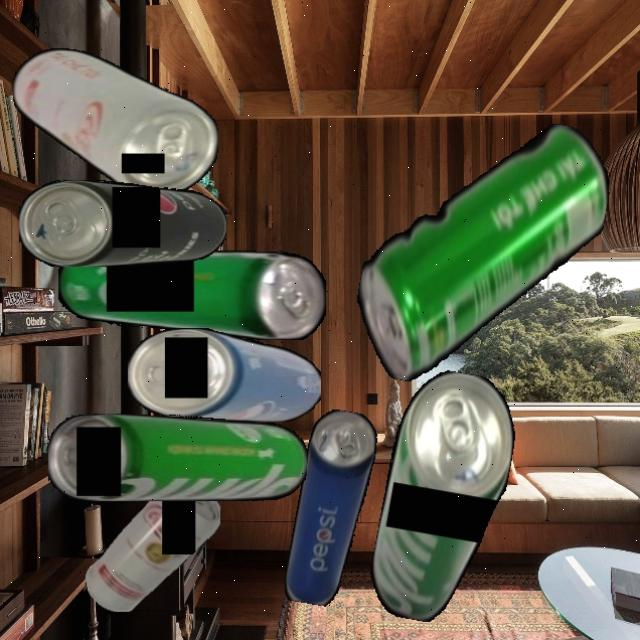debris: (345, 96, 619, 410), (364, 364, 524, 631), (11, 48, 218, 196), (57, 246, 326, 340), (48, 413, 307, 501), (282, 406, 381, 610), (84, 474, 220, 612), (128, 327, 321, 422), (19, 179, 227, 267)
